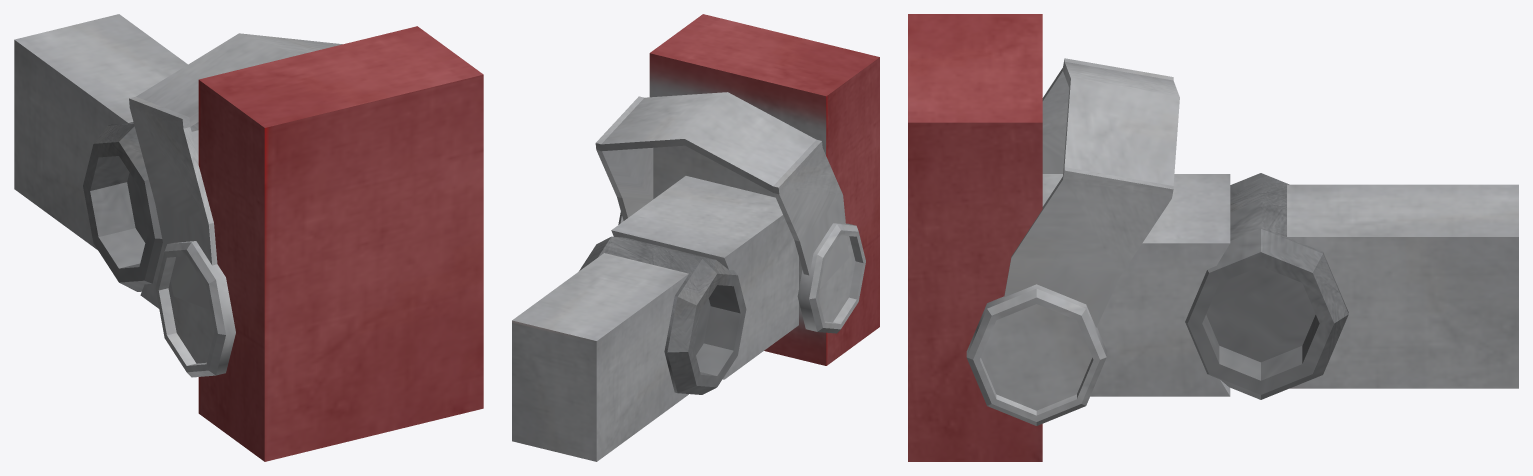
File: Leg-Left.FBX
The picture shows the model from 3 angles, left to right: view 1: azimuth 30°, elevation 25°; view 2: azimuth 150°, elevation 25°; view 3: azimuth 270°, elevation 25°; orthographic projection. The views are drawn at different scales.
Visible parts, largest first — view 1: Object007; view 2: Object007; view 3: Object007.
Boxes of the visible parts, <box> form: Object007: <box>14,14,483,461</box>; Object007: <box>512,14,879,461</box>; Object007: <box>908,14,1518,461</box>.
Size of the model in its own units: 3.44 by 4.4 by 7.17.
